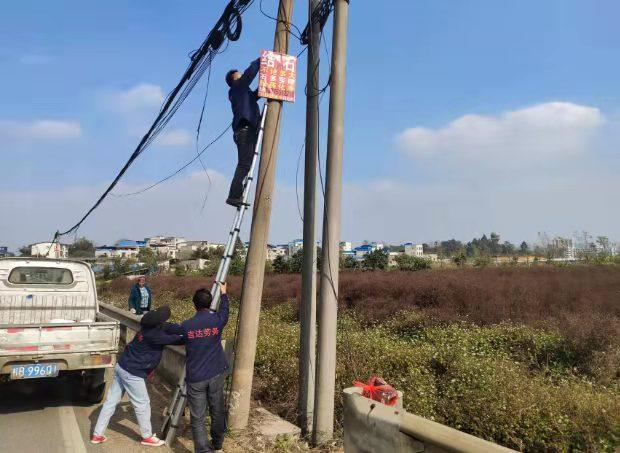安全帽、安全绳均未佩戴的工作人员: (224, 57, 263, 210)
安全帽、工作服均未穿戴的工作人员: (127, 275, 152, 314)
未带安全帽的工作人员: (88, 304, 183, 446), (166, 279, 233, 453)
